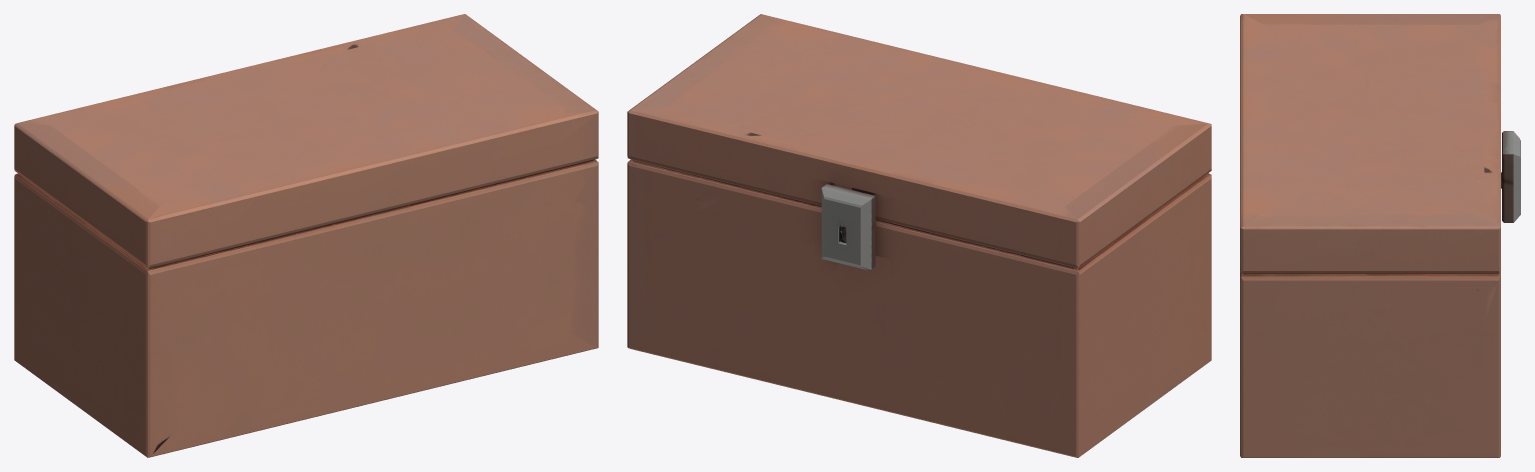
The model's file is chest.fbx.
3 views of the same model, side by side, from view 1: azimuth 30°, elevation 25°; view 2: azimuth 150°, elevation 25°; view 3: azimuth 270°, elevation 25° (orthographic). The views are drawn at different scales.
Visible parts, largest first — view 1: Mesh_0; view 2: Mesh_0; view 3: Mesh_0.
Boxes of the visible parts, <box> form: Mesh_0: <box>14,14,598,457</box>; Mesh_0: <box>627,14,1211,457</box>; Mesh_0: <box>1240,14,1520,457</box>.
Size of the model in its own units: 1.99 by 1 by 1.1.
Materials: 1 (1 with a texture image).
